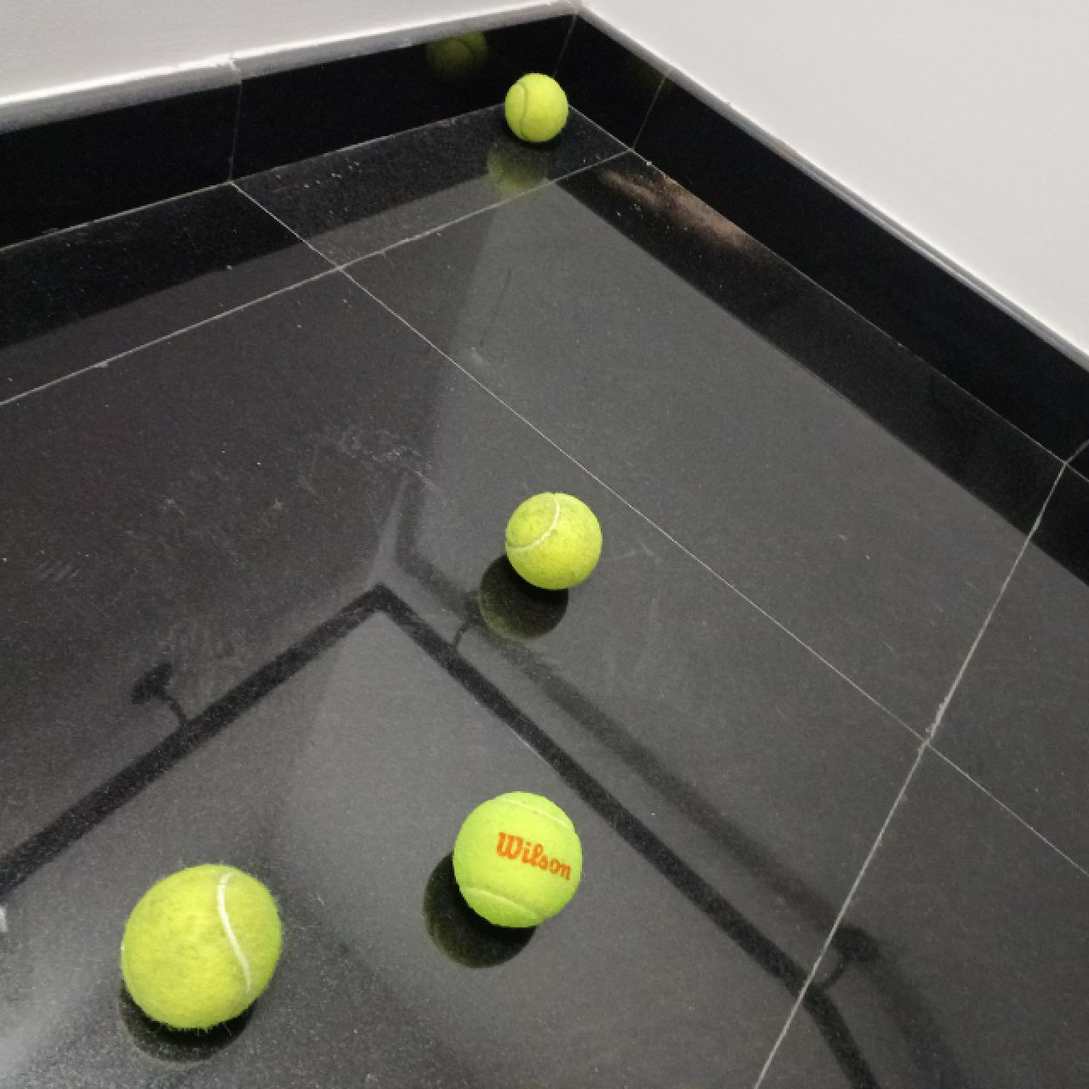tennis-ball: (121, 860, 283, 1032), (455, 789, 582, 928), (503, 489, 602, 591), (506, 71, 569, 142)
